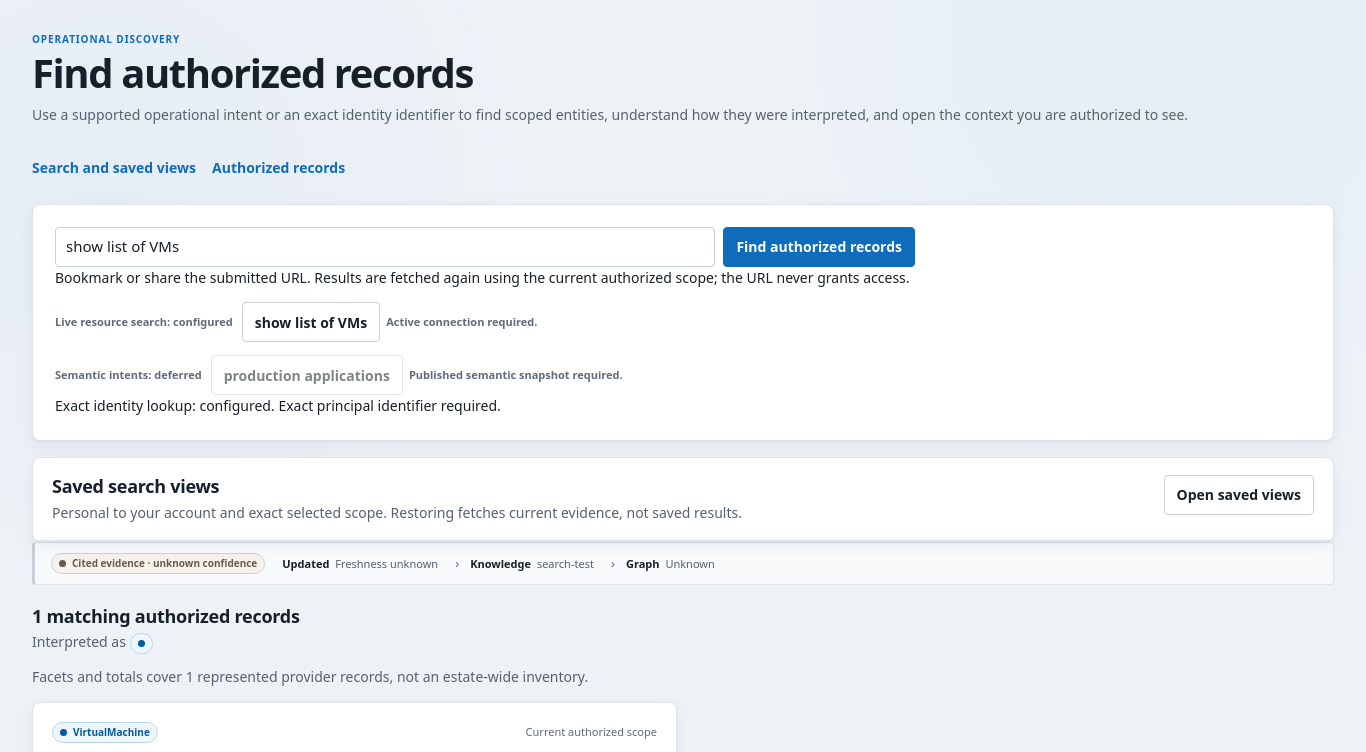
Test: Scoped operational search › reacquires evidence when restoring the already-current saved query
The image size is (1366, 752).
Click the button "Open saved views" at coordinates (1239, 495), box [1164,475,1314,515]
(page scrolled)
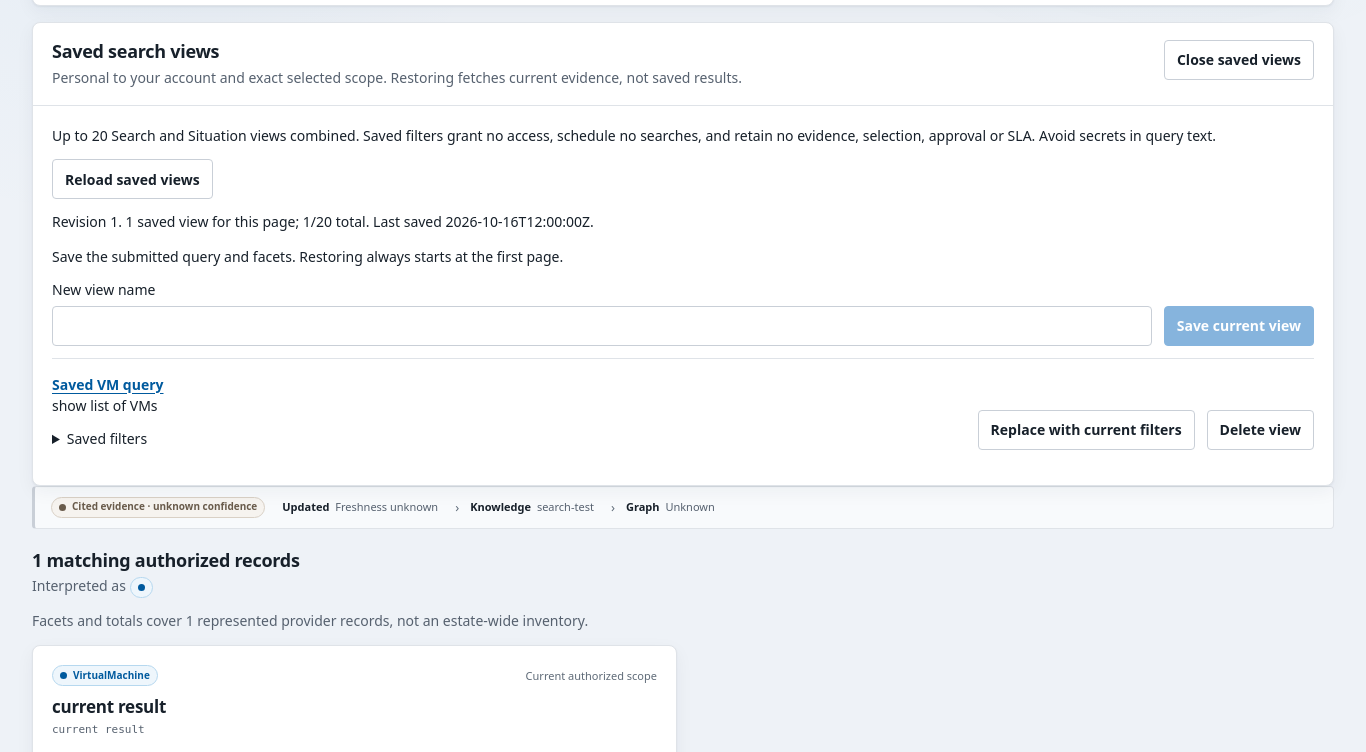
Click the link "Saved VM query" at coordinates (108, 384), box [52,374,164,394]
(page scrolled)
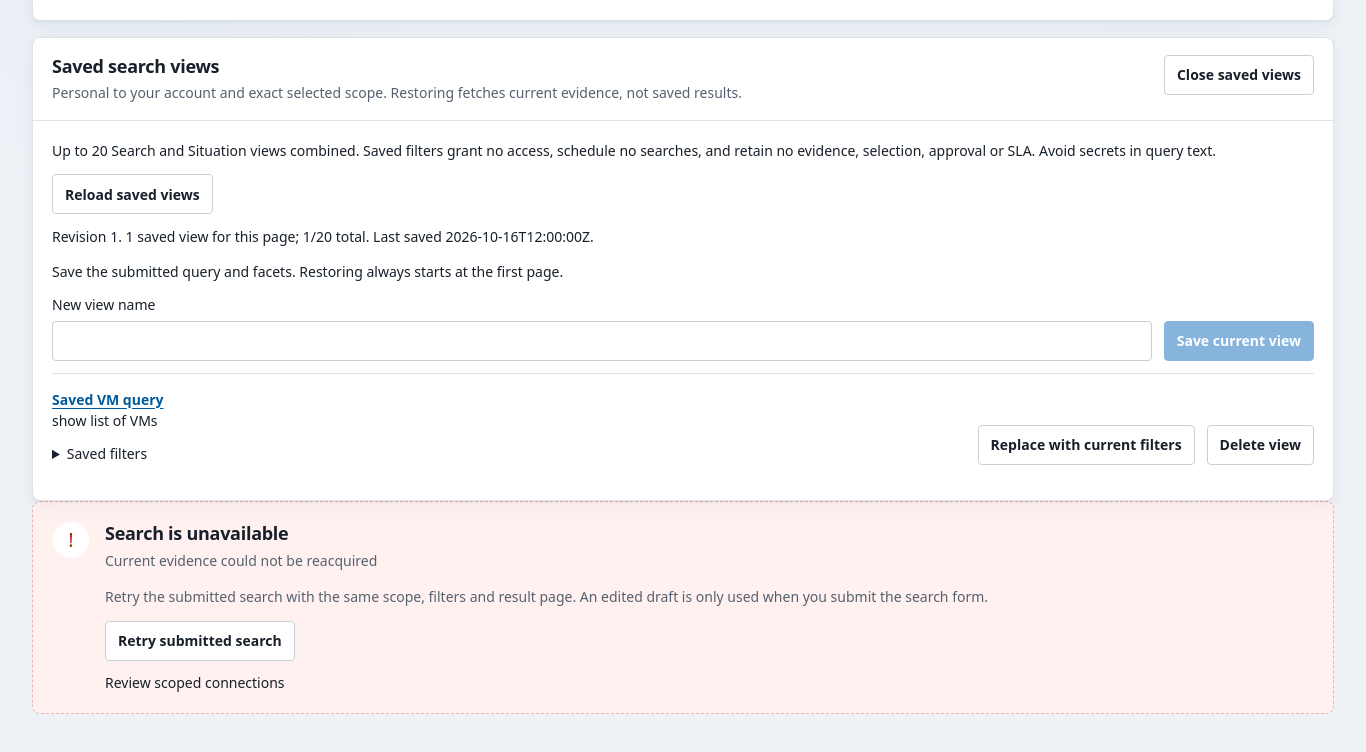
Result: the text "Current evidence could not be reacquired" is shown at [105,551,377,570]
Result: the heading "current result" is gone
